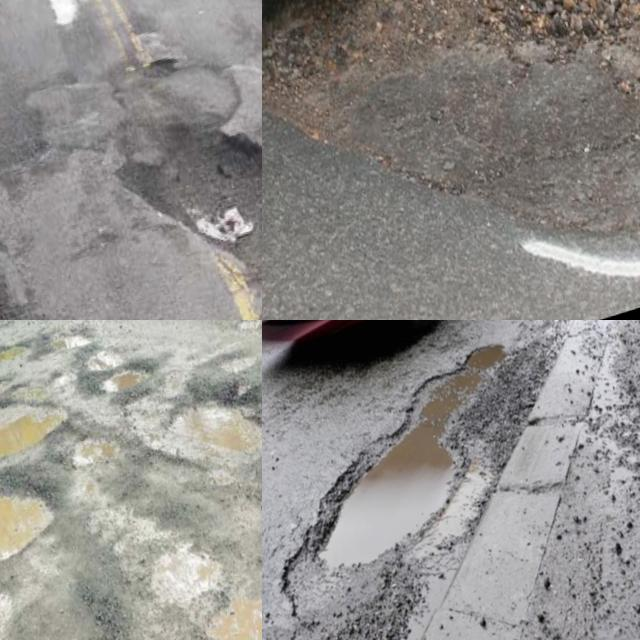Potholes: (262, 0, 640, 308), (262, 320, 606, 610), (51, 2, 262, 320), (107, 458, 262, 640), (118, 359, 262, 528), (0, 357, 128, 530), (0, 454, 78, 638), (10, 320, 141, 417), (124, 320, 215, 349)
